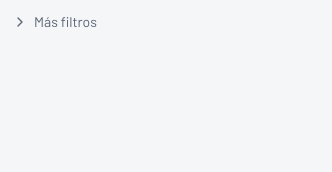
Scenario: Plegable › oculta el contenido hasta que se abre
Expected: the text "Filtro avanzado" is not shown
Click the button "Más filtros": (54, 22) [12,12,97,32]
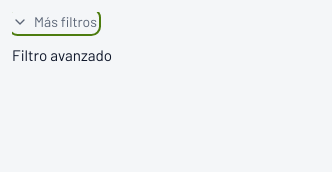
Expected: the text "Filtro avanzado" is shown, [12,46,112,64]
